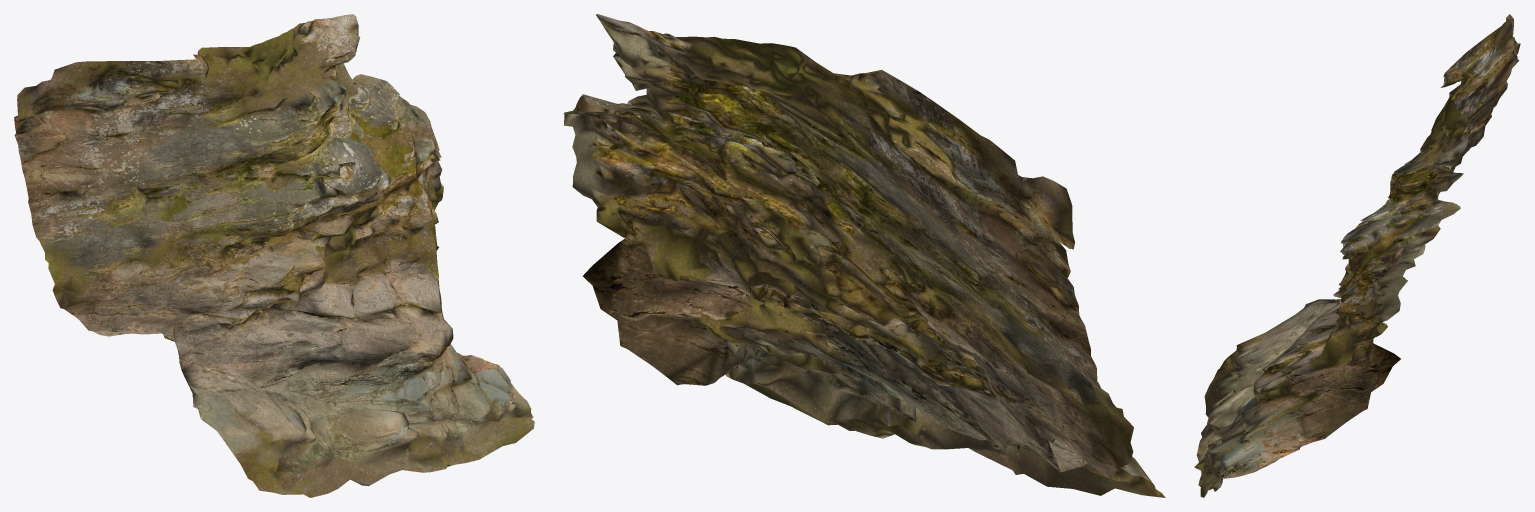
Rendered from rock_face_02.glb.
The picture shows the model from 3 angles, left to right: view 1: azimuth 30°, elevation 25°; view 2: azimuth 150°, elevation 25°; view 3: azimuth 270°, elevation 25°; orthographic projection. The views are drawn at different scales.
Parts seen in each view (by area): view 1: rock_face_02; view 2: rock_face_02; view 3: rock_face_02.
Part boxes in pixels (bbox=[...]): rock_face_02: bbox=[14, 14, 534, 497]; rock_face_02: bbox=[563, 14, 1165, 497]; rock_face_02: bbox=[1194, 14, 1520, 497].
Bounding box in the file's own units: 2.71 × 2.47 × 2.13.
Materials: 1 (1 with a texture image).
